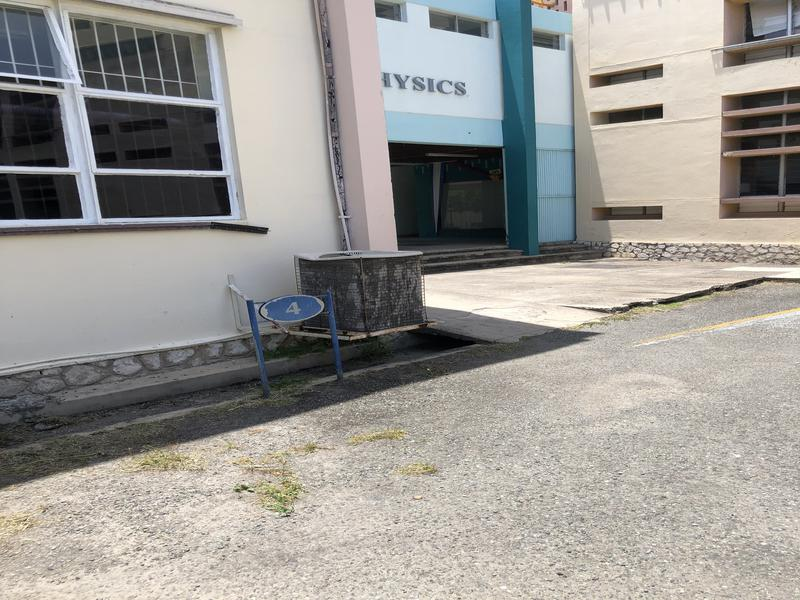18.0053530_-76.7490375_signatentrancetoscitech: (224, 279, 355, 398)
